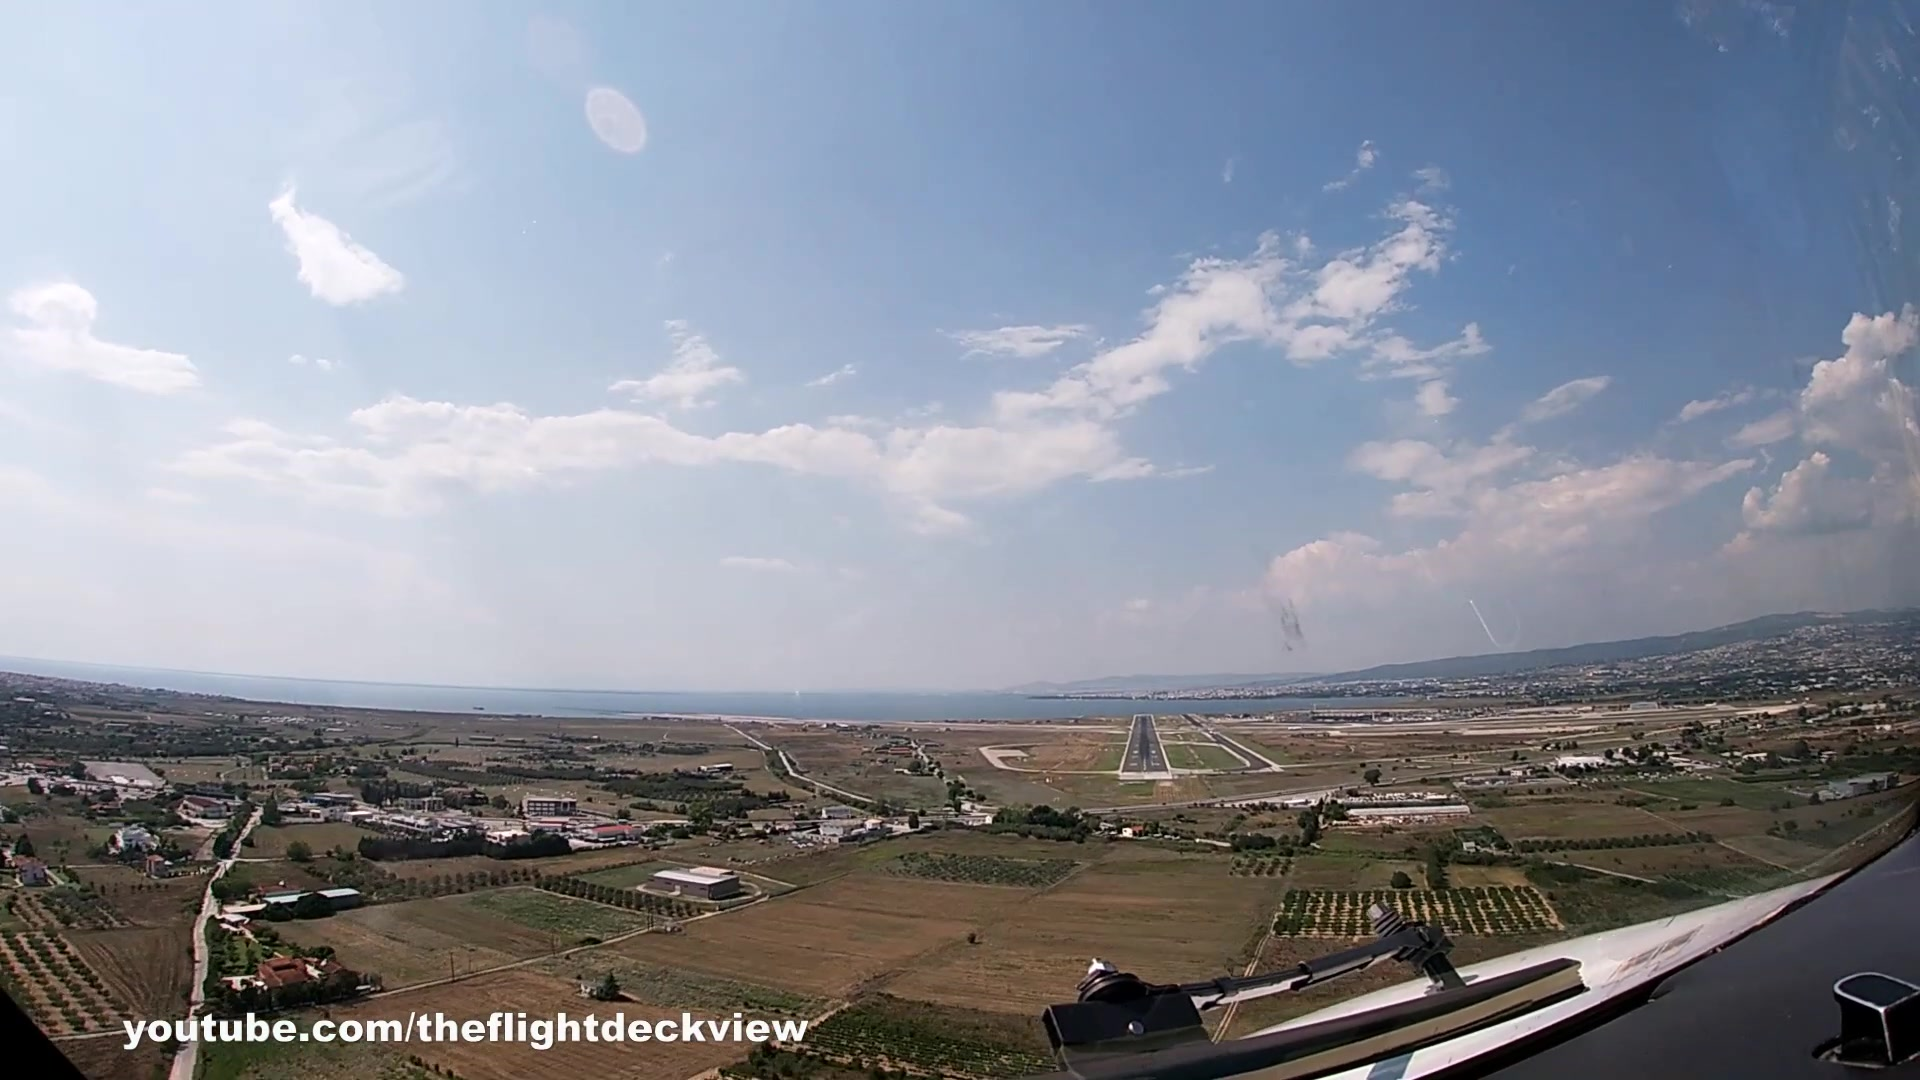runway: (1116, 713, 1174, 779)
